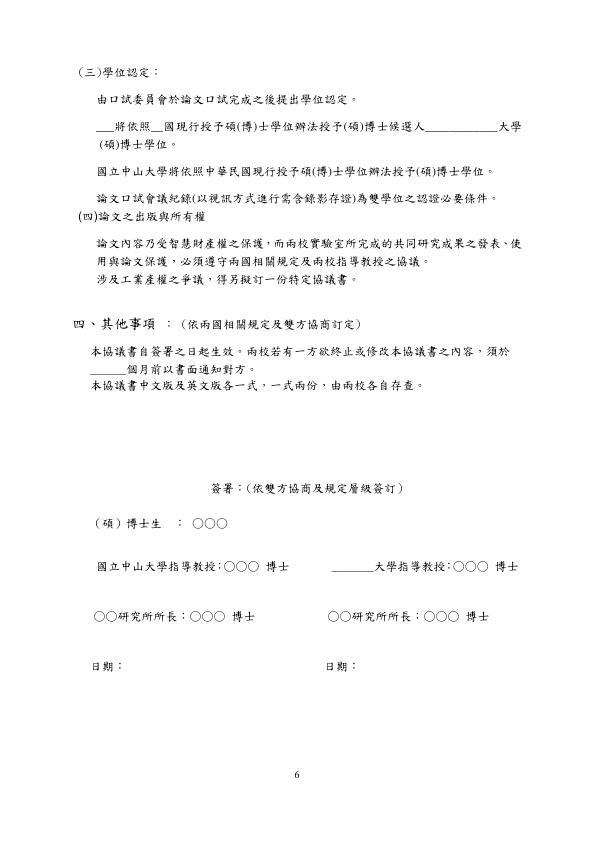input: (331, 551, 375, 580), (426, 119, 497, 136), (90, 362, 122, 378), (95, 118, 112, 135), (151, 116, 162, 134)
text: (89, 233, 525, 290), (86, 343, 516, 359), (93, 162, 495, 179), (94, 89, 360, 109), (95, 191, 500, 204), (86, 380, 426, 394), (68, 317, 363, 332), (208, 478, 407, 499), (87, 558, 299, 577), (166, 117, 423, 132), (89, 605, 256, 627), (375, 556, 527, 578), (323, 608, 491, 627), (92, 514, 235, 534), (72, 209, 208, 227), (123, 360, 258, 375), (74, 61, 162, 81), (97, 137, 179, 151), (324, 657, 362, 677), (115, 116, 149, 134), (90, 658, 126, 675), (498, 116, 524, 134)
